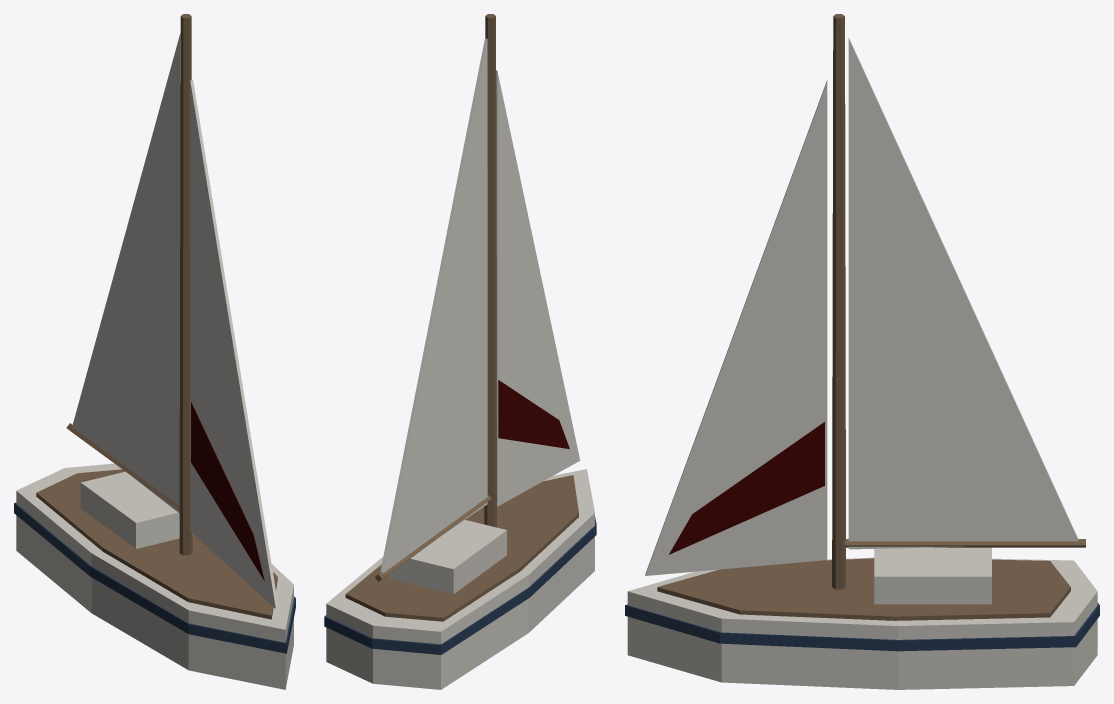
Rendered from Sailboat.glb.
3 views of the same model, side by side, from view 1: azimuth 30°, elevation 25°; view 2: azimuth 150°, elevation 25°; view 3: azimuth 270°, elevation 25° (orthographic). The views are drawn at different scales.
Parts seen in each view (by area): view 1: Sailboat; view 2: Sailboat; view 3: Sailboat.
Part boxes in pixels (x1,y1,x2,y2): Sailboat: (14, 14, 295, 689); Sailboat: (324, 14, 596, 689); Sailboat: (625, 14, 1099, 689).
Bounding box in the file's own units: 1.43 × 6 × 4.04.
